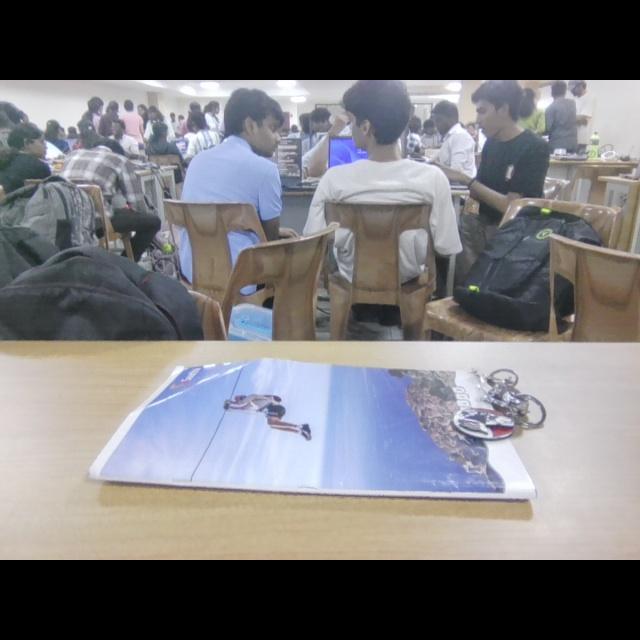keys: (454, 372, 560, 456)
